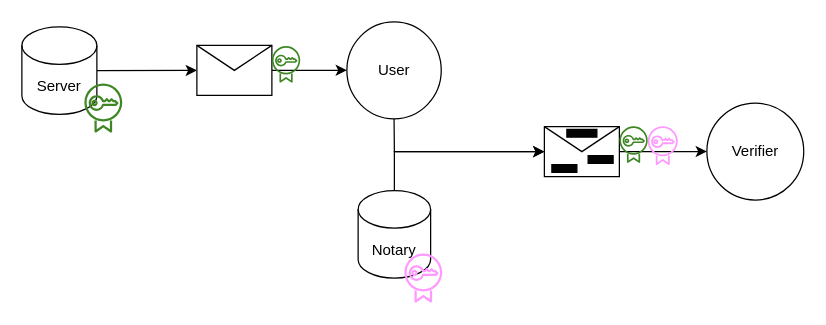
Image size: 826x325. Some labels were removed from this diagram. The shapes that lost their labels are listed below. From the top down, each one's centre as x and y in pixels, then its label:
At point (234, 69): "encrypted data".
At point (581, 151): "signed data".
